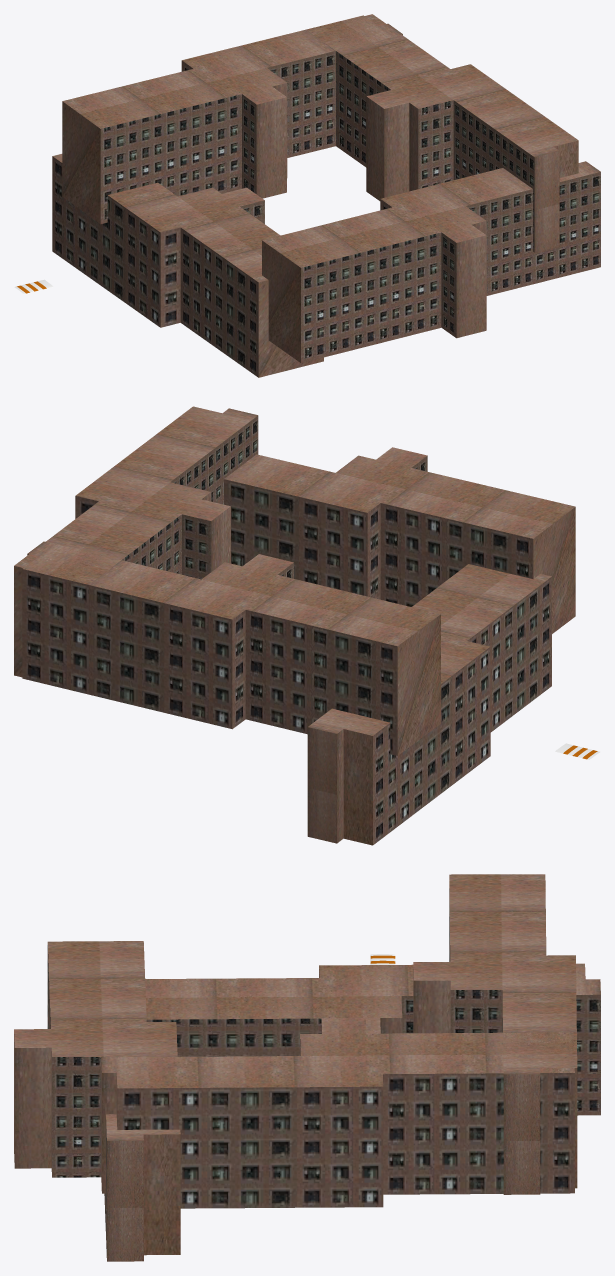
File: 아름관.obj
3 renders of one model, top to bottom at view 1: azimuth 30°, elevation 25°; view 2: azimuth 150°, elevation 25°; view 3: azimuth 270°, elevation 25°, orthographic. The views are drawn at different scales.
Parts seen in each view (by area): view 1: Sincerity_building_Tool.004; view 2: Sincerity_building_Tool.004; view 3: Sincerity_building_Tool.004.
Boxes of the visible parts, x1,y1,x2,y2 form: Sincerity_building_Tool.004: (52, 14, 600, 377); Sincerity_building_Tool.004: (14, 406, 575, 845); Sincerity_building_Tool.004: (14, 874, 600, 1261).
Size of the model in its own units: 113 by 37.15 by 95.77.
